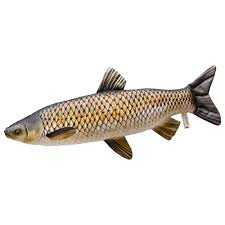carp: (3, 66, 222, 160)
